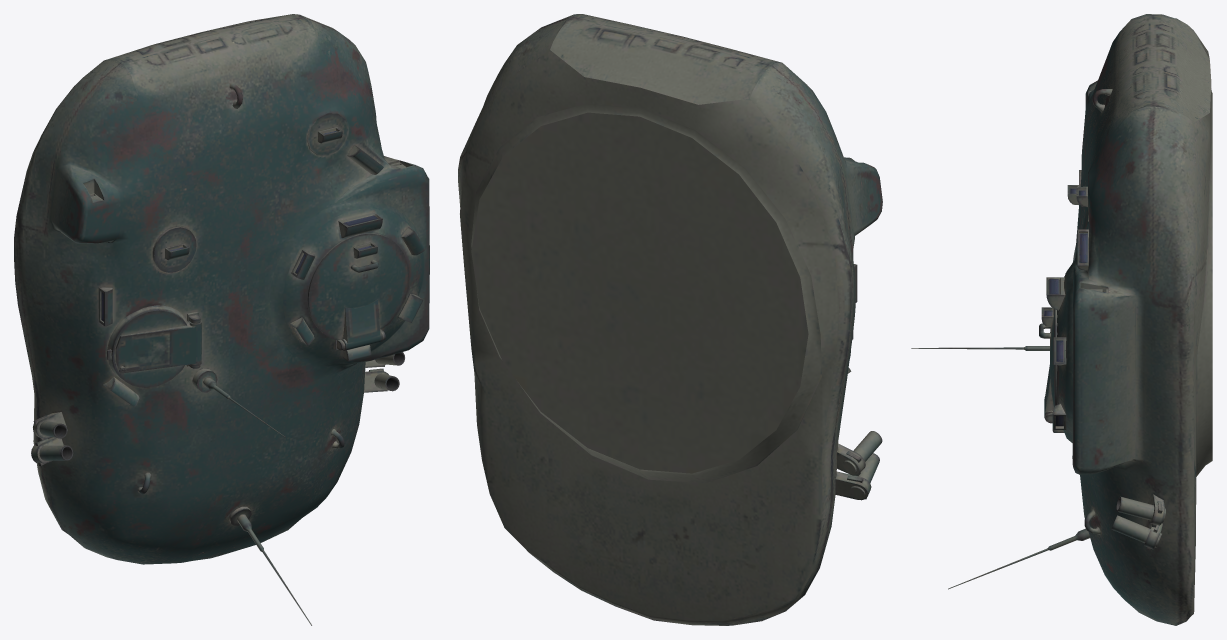
The model's file is Turret_01.glb.
3 renders of one model, left to right at view 1: azimuth 30°, elevation 25°; view 2: azimuth 150°, elevation 25°; view 3: azimuth 270°, elevation 25°, orthographic. The views are drawn at different scales.
Parts seen in each view (by area): view 1: set_0_group_0; view 2: set_0_group_0; view 3: set_0_group_0.
Boxes of the visible parts, <box> form: set_0_group_0: <box>14,14,429,625</box>; set_0_group_0: <box>458,14,882,625</box>; set_0_group_0: <box>911,14,1212,625</box>.
Size of the model in its own units: 2.43 by 3.37 by 1.69.
1 material, 1 textured.
